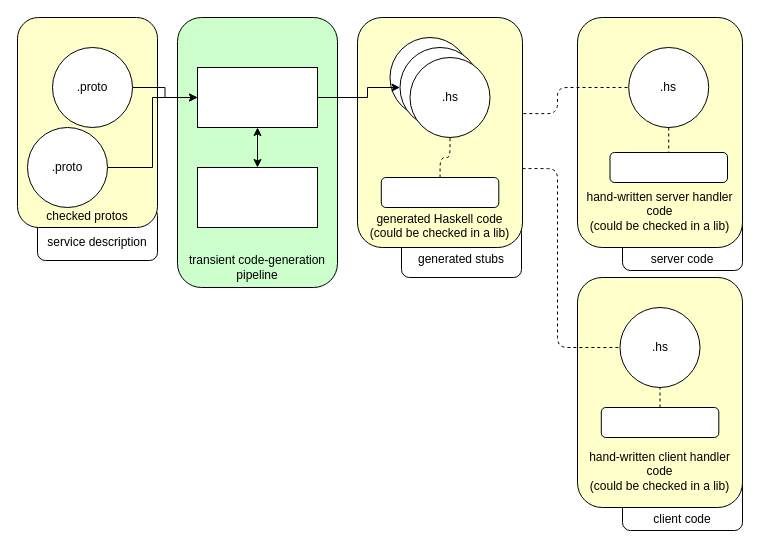
This 760x548 diagram has some shape labels left out. The centre of each missing label's shape, as x and y in pixels:
http2-client-grpc: point 659,422
proto-lens-protoc: point 257,197
proto-lens-runtime: point 439,192
protoc: point 257,97
warp-grpc: point 668,167
